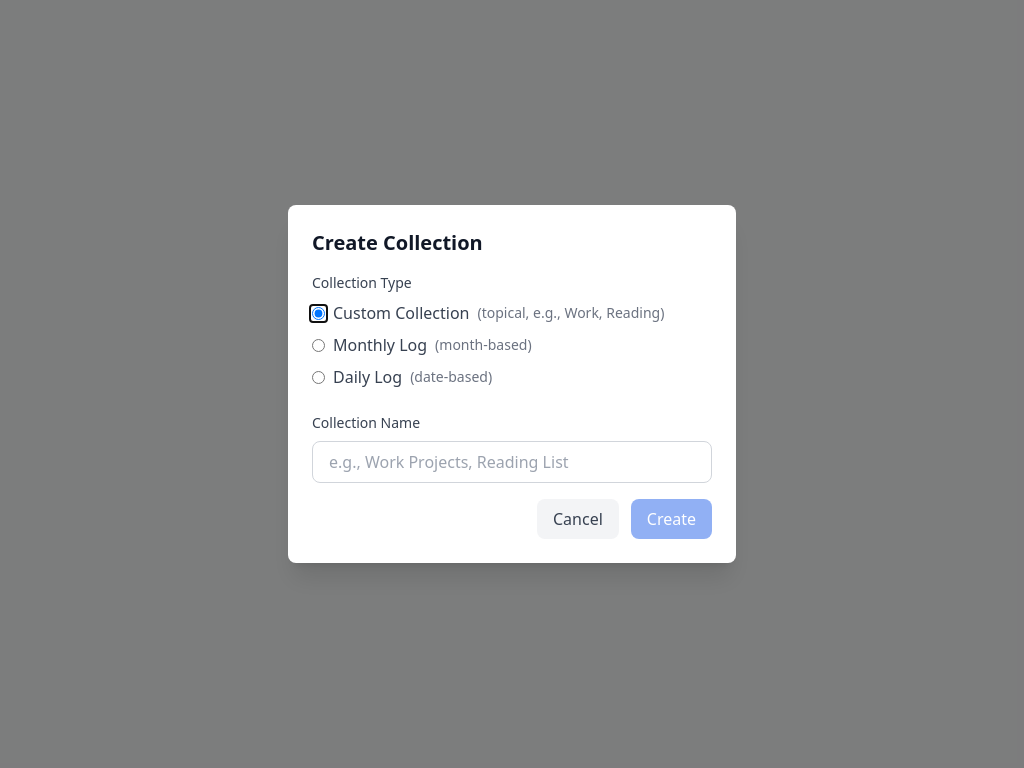
CreateCollectionModal › should display error message on submit failure
Type "Duplicate" into the field labelled "Collection Name" at (512, 462), box [312, 441, 712, 483]
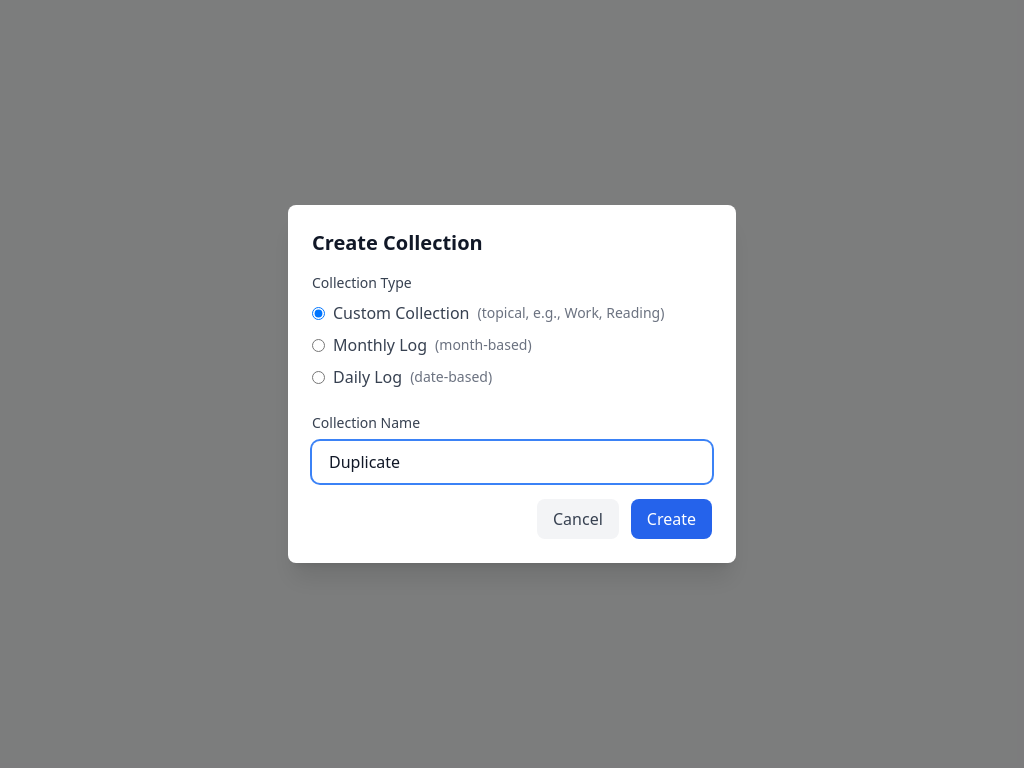
Click the button "Create" at (671, 519), box [631, 499, 712, 539]
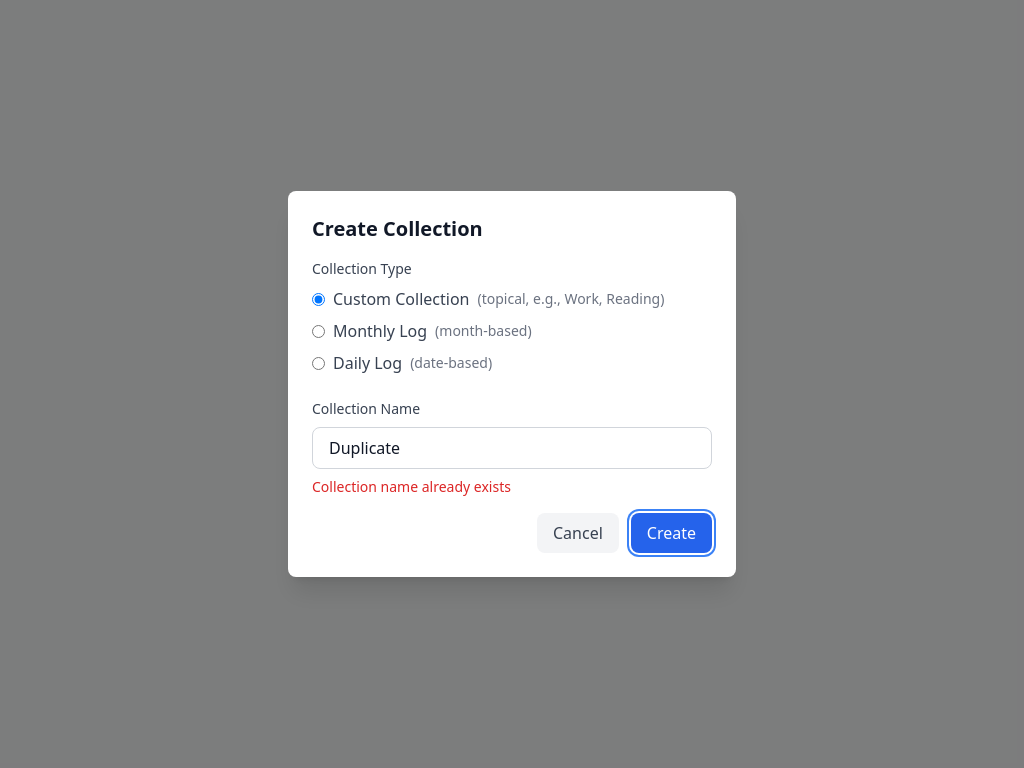
Result: the text "Collection name already exists" is shown at [312, 477, 511, 496]
